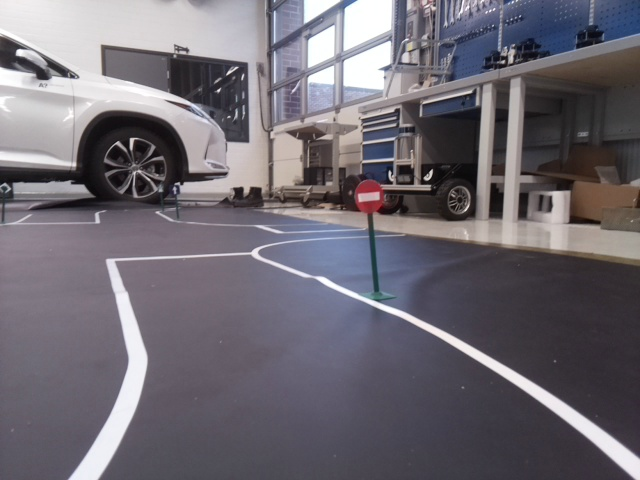NoEntry: (354, 181, 384, 214)
OneWay: (169, 184, 179, 194)
